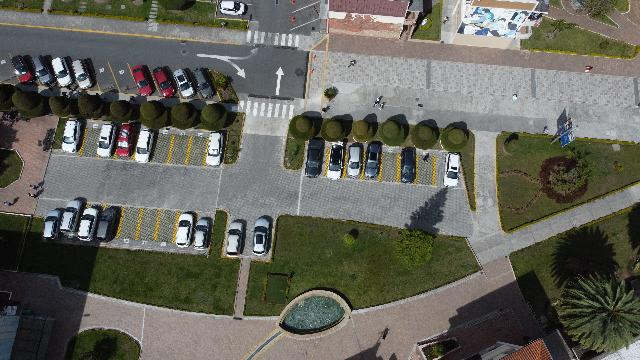Vehiculo: (30, 55, 58, 91), (59, 199, 82, 236), (252, 216, 272, 256), (96, 207, 118, 243), (153, 66, 177, 98), (192, 67, 216, 99), (70, 58, 94, 90), (77, 207, 99, 241), (327, 140, 345, 180), (306, 138, 324, 178), (96, 122, 116, 158), (132, 65, 154, 97), (43, 208, 65, 240), (364, 140, 382, 178), (134, 129, 154, 163), (61, 119, 81, 153), (11, 56, 35, 84), (174, 68, 196, 98), (52, 57, 74, 87), (226, 221, 244, 256), (444, 152, 461, 188), (175, 213, 193, 247), (205, 132, 223, 166), (346, 142, 364, 176), (116, 124, 134, 158), (401, 146, 417, 184), (193, 218, 210, 250), (218, 1, 246, 16)
